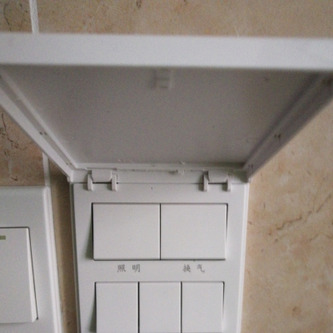switch: (81, 196, 163, 263), (157, 199, 231, 263), (1, 221, 40, 327), (133, 277, 187, 333), (176, 277, 229, 333), (93, 280, 142, 333)
